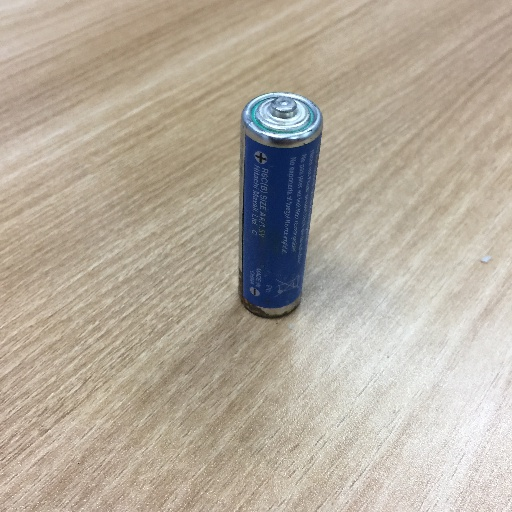Battery_0: (235, 78, 322, 341)
